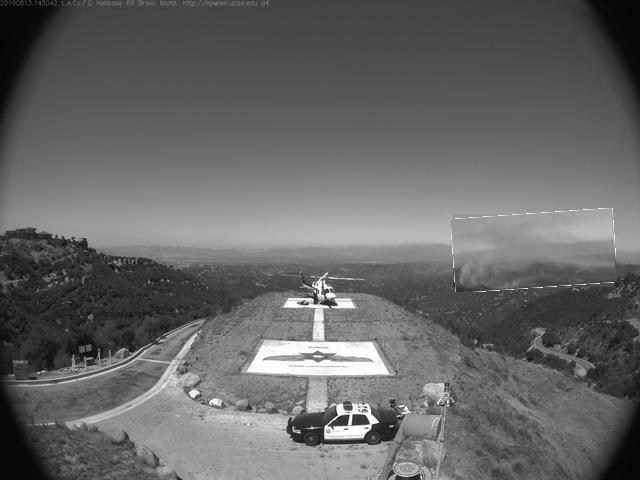smoke: (453, 212, 617, 292)
